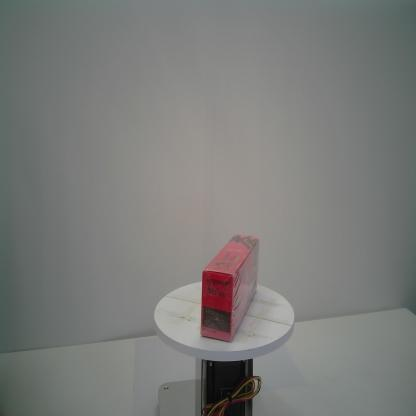Instant Drink: (200, 233, 260, 342)
